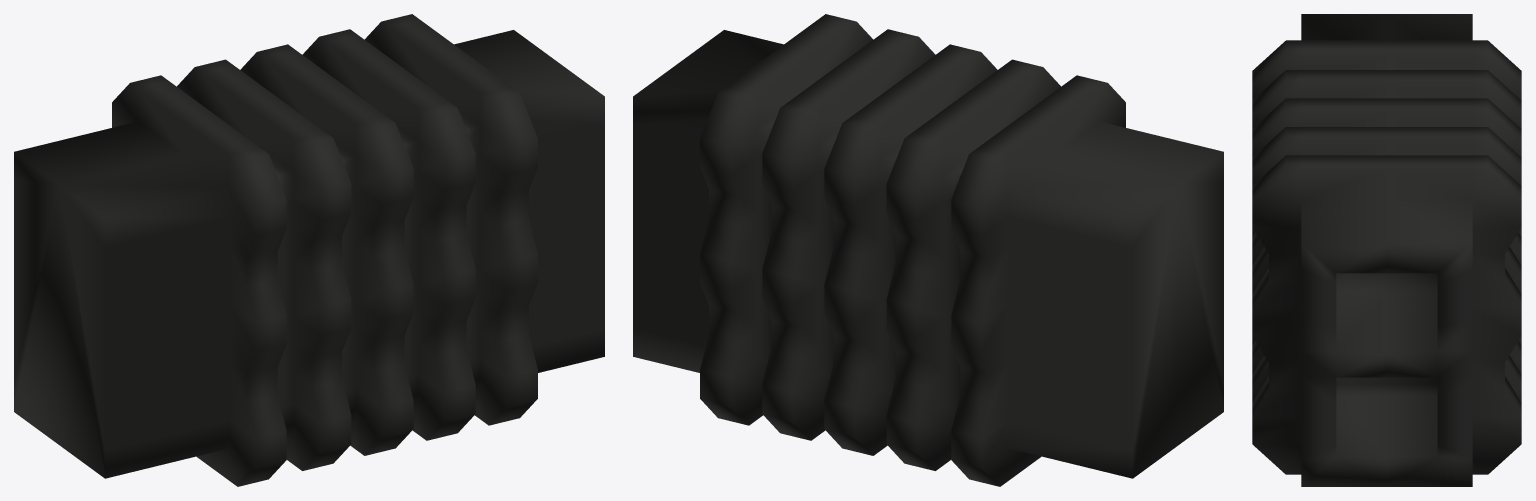
Rendered from SM_LWMagSMG_SuppressorA.fbx.
3 views of the same model, side by side, from view 1: azimuth 30°, elevation 25°; view 2: azimuth 150°, elevation 25°; view 3: azimuth 270°, elevation 25° (orthographic). The views are drawn at different scales.
Parts seen in each view (by area): view 1: SM_LWMagSMG_SuppressorA.001; view 2: SM_LWMagSMG_SuppressorA.001; view 3: SM_LWMagSMG_SuppressorA.001.
Boxes of the visible parts, x1=… form: SM_LWMagSMG_SuppressorA.001: x1=14, y1=14, x2=604, y2=486; SM_LWMagSMG_SuppressorA.001: x1=633, y1=14, x2=1223, y2=486; SM_LWMagSMG_SuppressorA.001: x1=1252, y1=14, x2=1521, y2=486.
Size of the model in its own units: 8.04 by 4 by 5.
